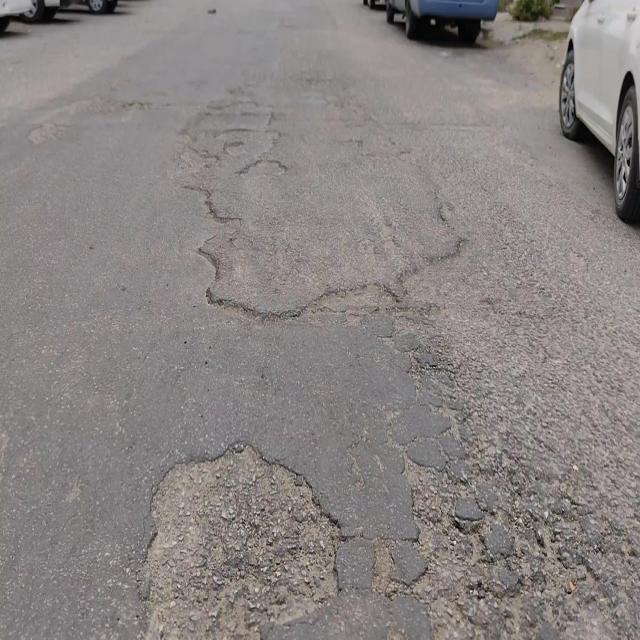Potholes: (139, 423, 328, 640)
